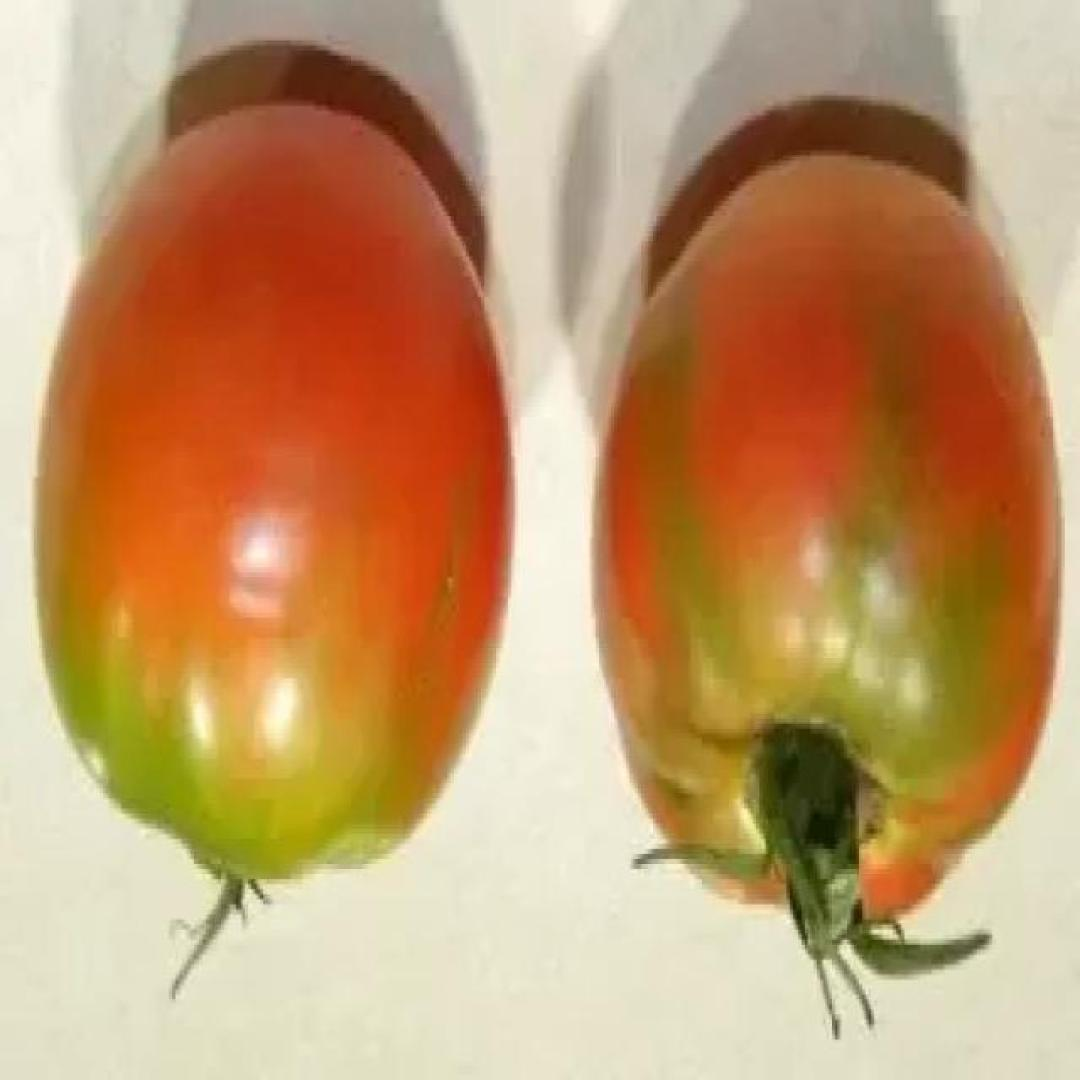setengah_matang: (27, 99, 515, 890), (584, 145, 1061, 940)
